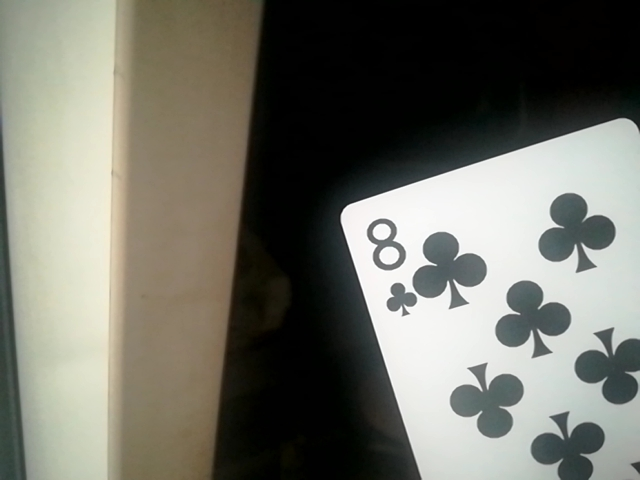mh 8: (343, 111, 640, 479)
